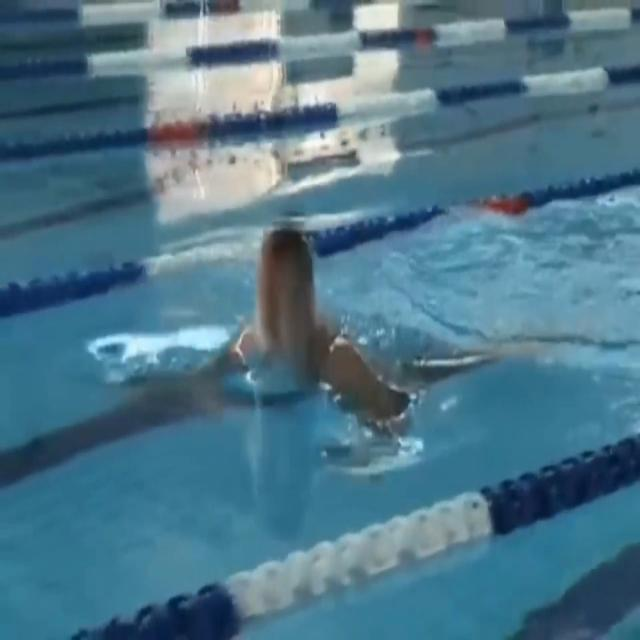Swimming: (239, 225, 404, 423)
